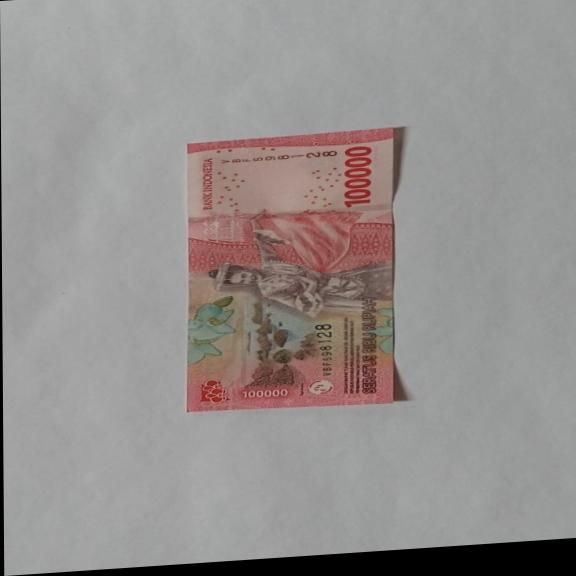Kertas: (183, 126, 401, 416), (340, 144, 374, 208)
